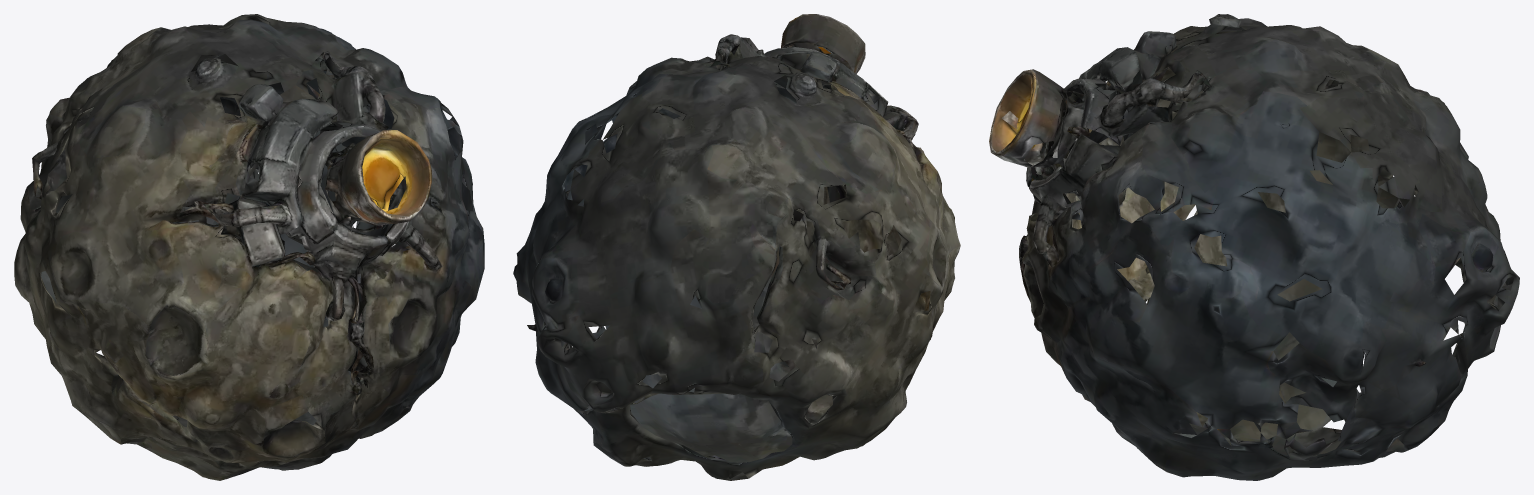
Rendered from na-rock-a.glb.
The picture shows the model from 3 angles, left to right: view 1: azimuth 30°, elevation 25°; view 2: azimuth 150°, elevation 25°; view 3: azimuth 270°, elevation 25°; orthographic projection. The views are drawn at different scales.
Parts seen in each view (by area): view 1: geometry_0; view 2: geometry_0; view 3: geometry_0.
Part boxes in pixels (box(x1,y1,x2,y2)): geometry_0: box(14, 14, 484, 480); geometry_0: box(513, 14, 960, 480); geometry_0: box(989, 14, 1519, 480).
Size of the model in its own units: 0.8031 by 0.796 by 0.9065.
Materials: 1 (1 with a texture image).
